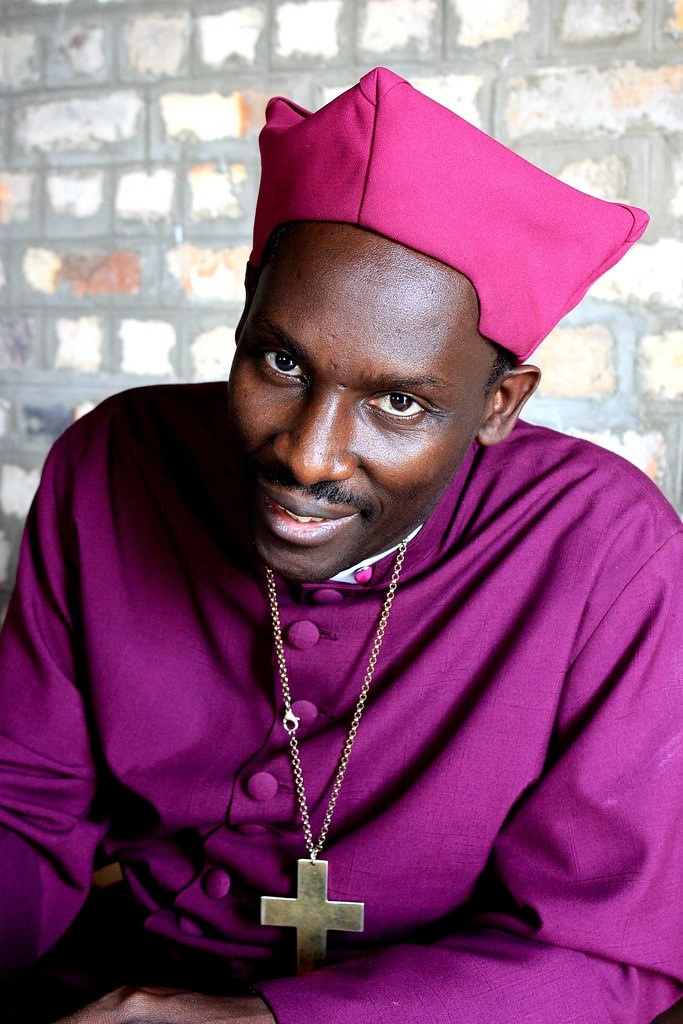face_no_mask: (220, 190, 504, 577)
